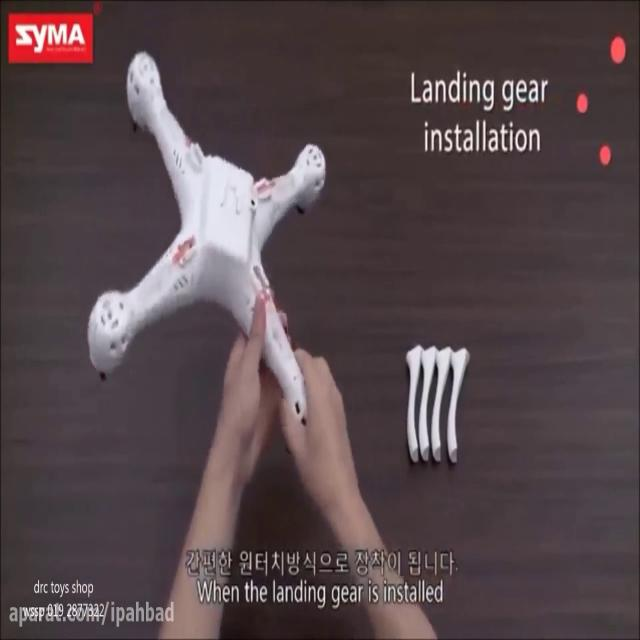drone: (84, 50, 330, 457)
